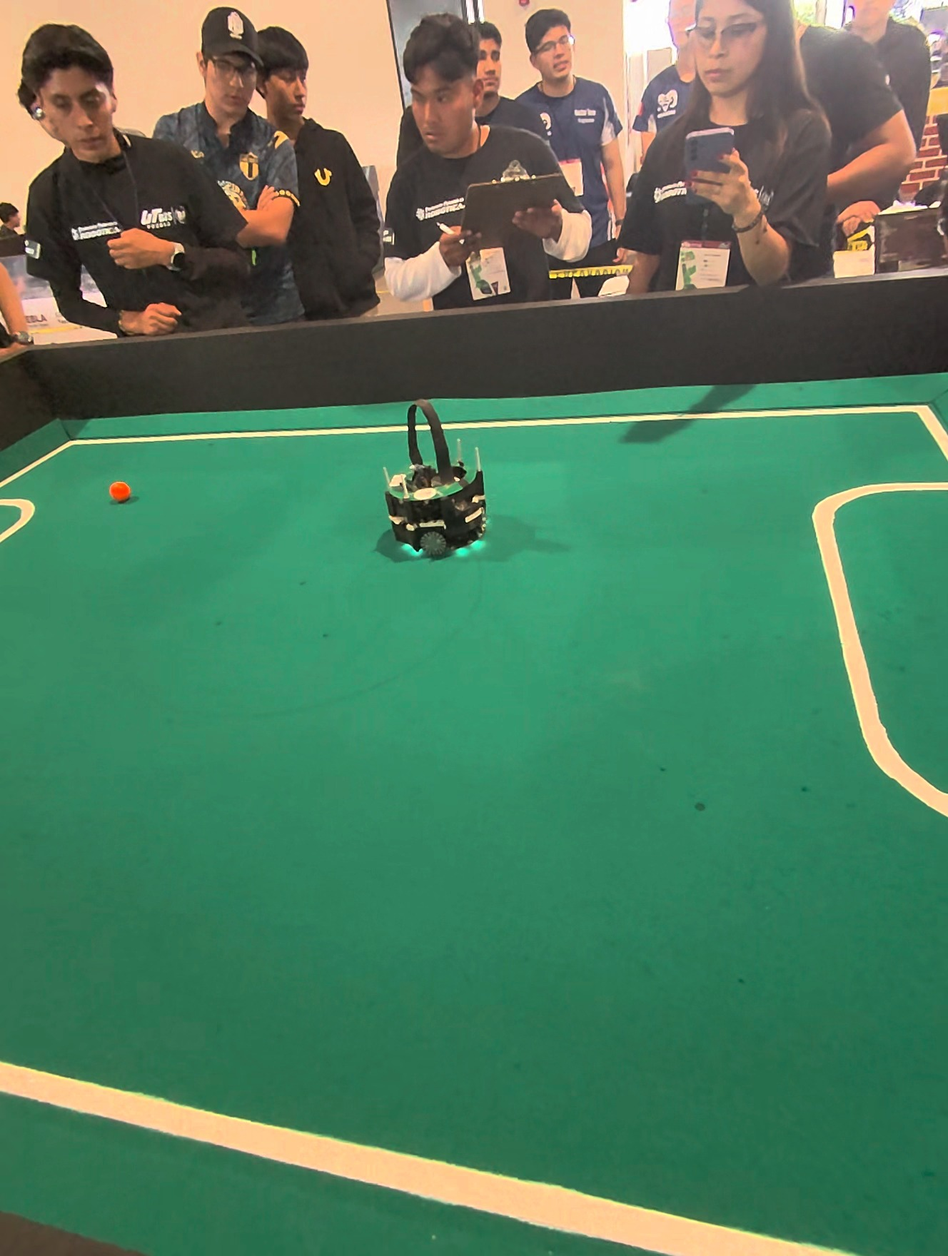Robot: (373, 401, 504, 584)
pelota: (88, 472, 150, 510)
